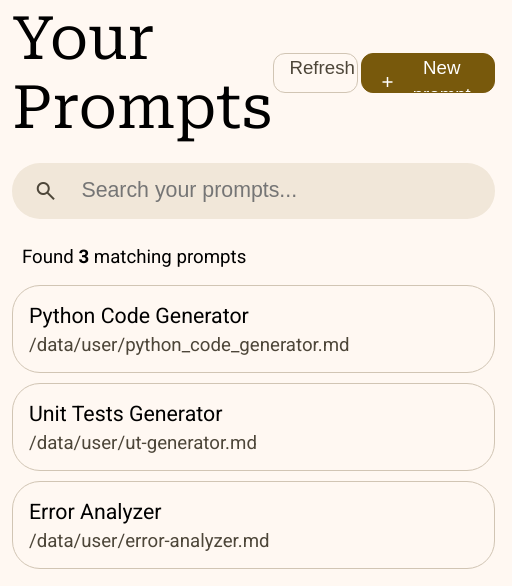
first render › edit prompt button should be visible when prompt from list is hovered
The width and height of the screenshot is (512, 586).
Hover over the list item "Error Analyzer /data/user/error-analyzer.md" at (253, 525), box left=12, top=481, right=495, bottom=569
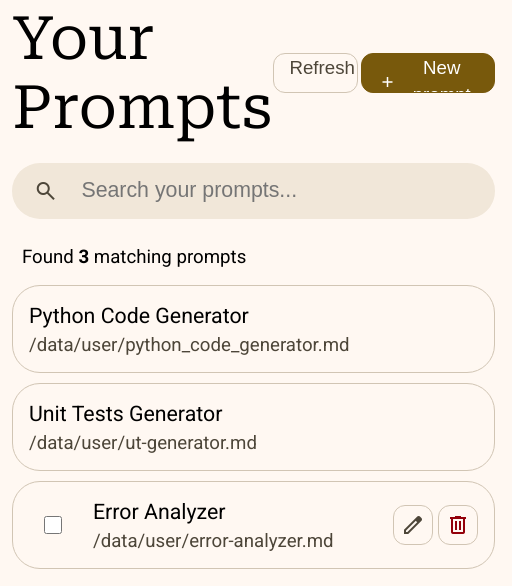
Check: the 2nd button named "edit" is shown, box left=393, top=505, right=433, bottom=545
